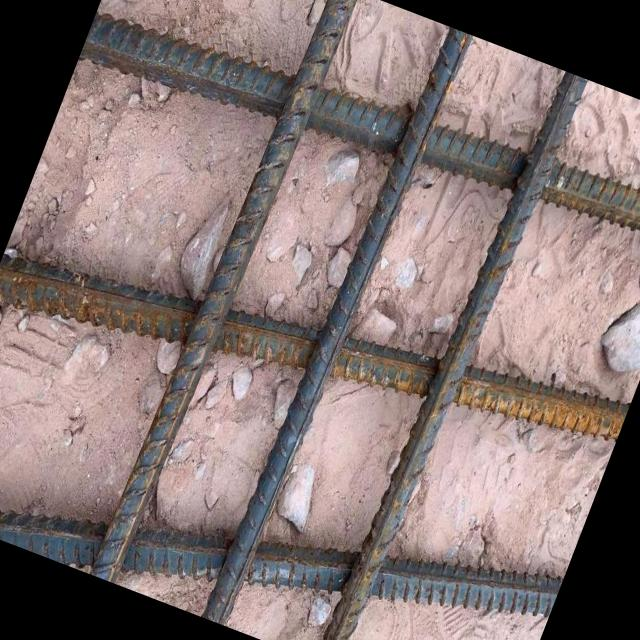ribbed bar: (0, 174, 630, 536), (200, 20, 473, 634), (0, 346, 564, 640), (77, 0, 640, 291), (86, 0, 360, 590), (311, 63, 587, 640)
